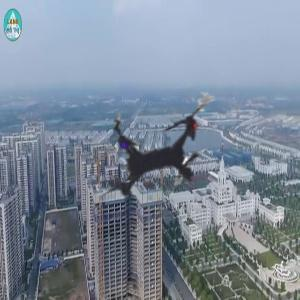drone: (47, 41, 271, 265)
